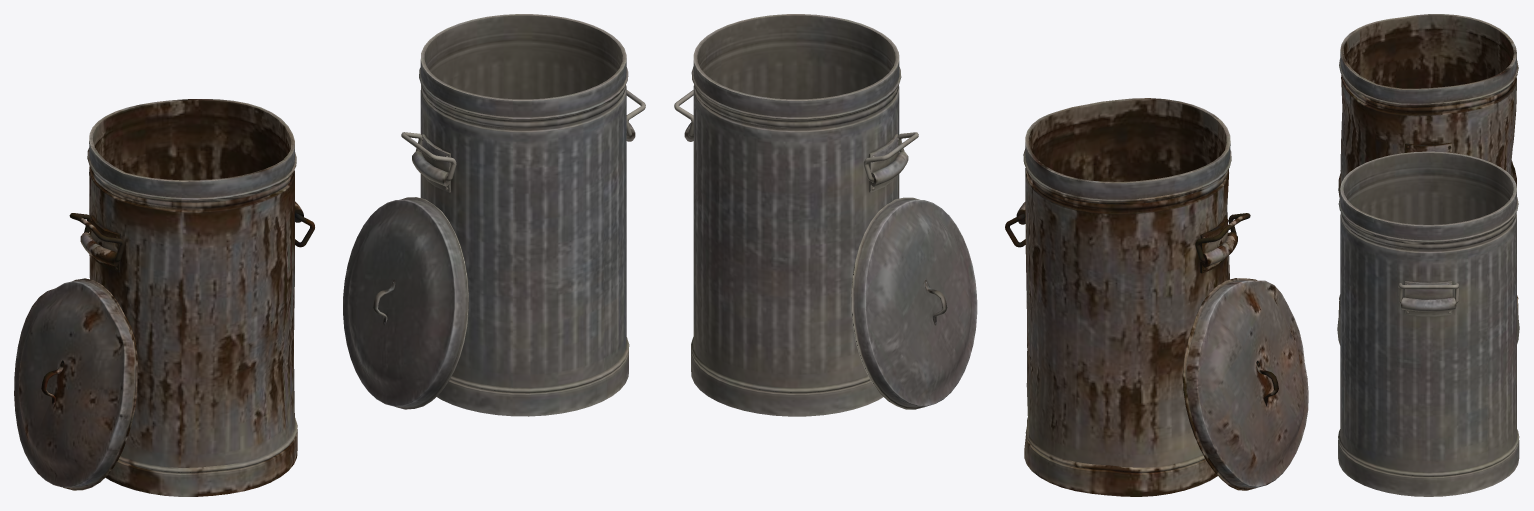
File: trash_can.glb
3 views of the same model, side by side, from view 1: azimuth 30°, elevation 25°; view 2: azimuth 150°, elevation 25°; view 3: azimuth 270°, elevation 25° (orthographic). The views are drawn at different scales.
Visible parts, largest first — view 1: metal_trash_can_handle_left, metal_trash_can_rust; view 2: metal_trash_can_handle_left, metal_trash_can_rust; view 3: metal_trash_can_handle_left, metal_trash_can_rust.
Part boxes in pixels (x1,y1,x2,y2): metal_trash_can_handle_left: [343, 14, 645, 416]; metal_trash_can_rust: [14, 99, 314, 496]; metal_trash_can_handle_left: [674, 14, 977, 416]; metal_trash_can_rust: [1005, 98, 1308, 496]; metal_trash_can_handle_left: [1337, 151, 1519, 496]; metal_trash_can_rust: [1338, 14, 1518, 316].
Bounding box in the file's own units: 1.78 × 0.9062 × 0.5553.
Materials: 2 (2 with a texture image).
